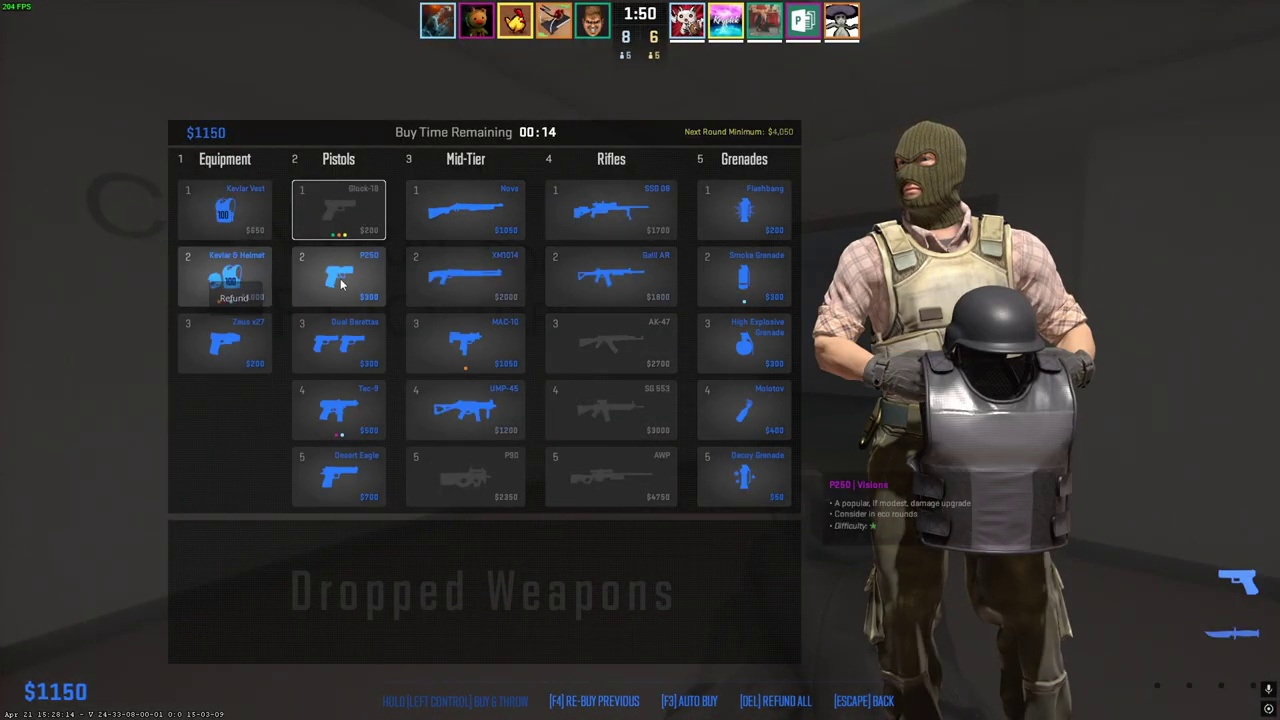Terrorist: (853, 121, 1085, 720)
